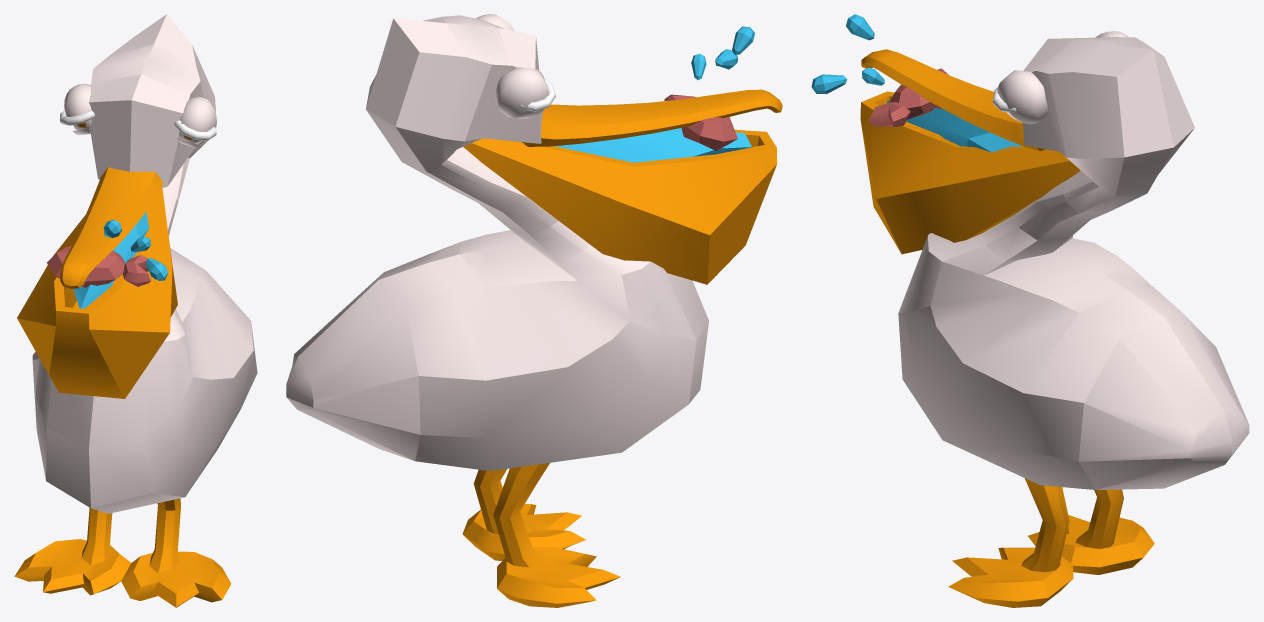
File: elf20.glb
3 views of the same model, side by side, from view 1: azimuth 30°, elevation 25°; view 2: azimuth 150°, elevation 25°; view 3: azimuth 270°, elevation 25° (orthographic). The views are drawn at different scales.
Parts seen in each view (by area): view 1: Cube 13, Cube 18 (×2), Subdiv 14 (×2), Cube 14, Cube 11, Sphere 4 (×2), Cylinder, Cube 16, Torus (×2), Subdiv 10, Subdiv 8; view 2: Cube 13, Cube 18 (×2), Cube 14, Cube 11, Subdiv 14 (×2), Cylinder, Cube 16, Sphere 4; view 3: Cube 13, Cube 18 (×2), Subdiv 14 (×2), Cube 14, Cube 11, Cube 16, Cylinder, Sphere 4, Subdiv 10, Sphere 5.
Boxes of the visible parts, x1,y1,x2,y2 form: Cube 13: (32, 14, 257, 513); Cube 18 (×2): (17, 188, 177, 398); Subdiv 14 (×2): (121, 498, 231, 607); Cube 14: (60, 167, 163, 288); Cube 11: (14, 539, 131, 595); Sphere 4 (×2): (64, 83, 216, 131); Cylinder: (81, 507, 112, 565); Cube 16: (73, 211, 149, 308); Torus (×2): (60, 110, 216, 140); Subdiv 10: (122, 255, 150, 286); Subdiv 8: (145, 258, 168, 280); Cube 13: (286, 15, 708, 470); Cube 18 (×2): (463, 117, 777, 284); Cube 14: (521, 89, 782, 146); Cube 11: (497, 547, 620, 607); Subdiv 14 (×2): (462, 468, 585, 560); Cylinder: (493, 463, 550, 567); Cube 16: (555, 128, 751, 162); Sphere 4: (497, 67, 549, 107); Cube 13: (898, 37, 1249, 489); Cube 18 (×2): (860, 68, 1080, 254); Subdiv 14 (×2): (948, 478, 1073, 607); Cube 14: (861, 49, 1046, 151); Cube 11: (1028, 515, 1154, 574); Cube 16: (887, 100, 1022, 152); Cylinder: (1075, 489, 1123, 548); Sphere 4: (997, 70, 1045, 113); Subdiv 10: (868, 102, 910, 126); Sphere 5: (1007, 95, 1048, 124).
Bounding box in the file's own units: 3.89 × 6.24 × 4.35.
